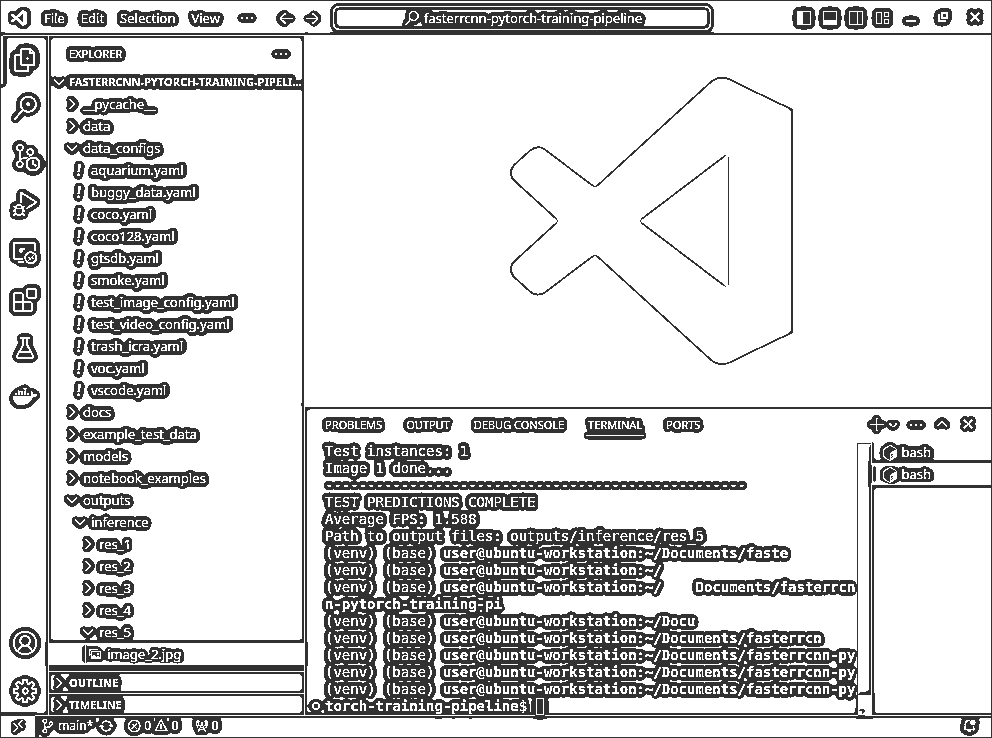Accounts: (8, 623, 42, 659)
Activity Bar: (1, 36, 45, 715)
Close: (965, 3, 984, 27)
Editor: (305, 31, 989, 409)
Explorer: (7, 42, 38, 74)
Extensions: (5, 281, 42, 316)
Manage: (3, 671, 41, 706)
Maximize: (932, 4, 953, 27)
Minimize: (900, 4, 920, 27)
Panel: (305, 408, 989, 717)
Primary Side Bar: (44, 30, 309, 718)
Run and Debug: (5, 184, 44, 228)
Search: (6, 85, 44, 128)
Search Bar: (328, 4, 715, 31)
Source Control: (5, 132, 41, 175)
Status Bar: (1, 714, 989, 735)
Testing: (7, 324, 41, 367)
Top Bar: (2, 0, 988, 34)
